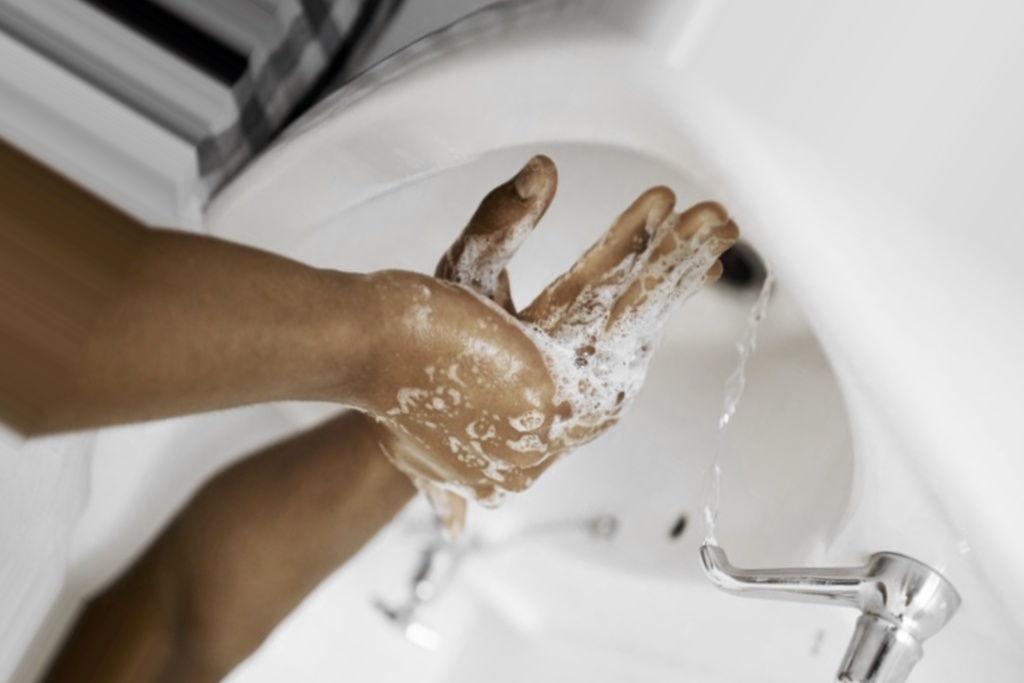washing hand: (142, 18, 1023, 682)
